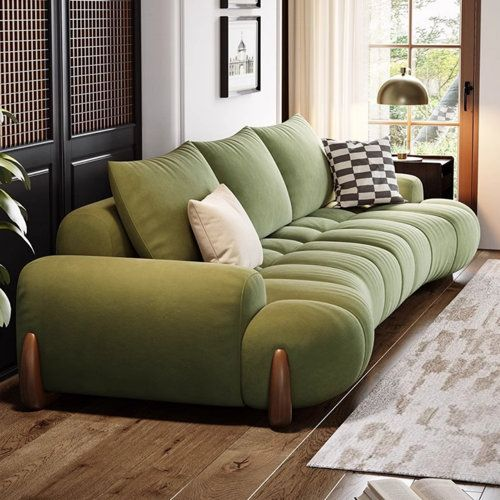3seatersofa: (17, 115, 479, 424)
backrest: (58, 115, 333, 260)
leftarmrest: (398, 173, 421, 201)
leg: (21, 333, 52, 409), (269, 349, 291, 427)
pillow: (188, 184, 262, 267), (322, 137, 404, 206)
rightarmrest: (18, 255, 265, 405)
seat: (239, 198, 482, 408)
